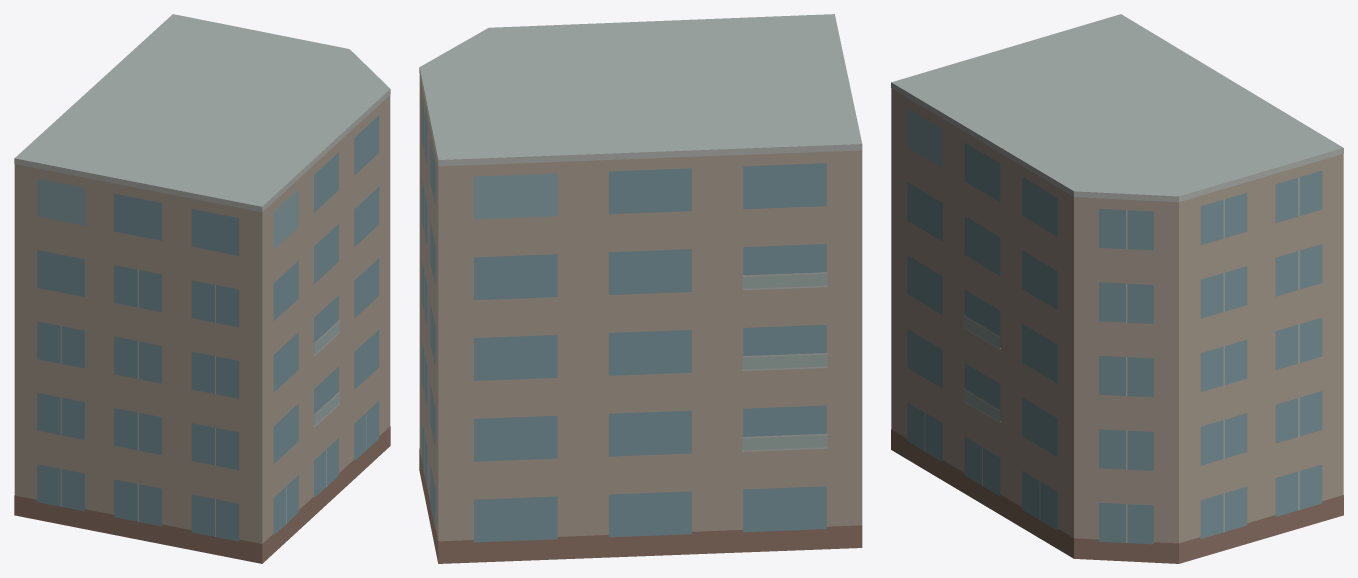
Rendered from survey-upis-32741710.glb.
The picture shows the model from 3 angles, left to right: view 1: azimuth 30°, elevation 25°; view 2: azimuth 150°, elevation 25°; view 3: azimuth 270°, elevation 25°; orthographic projection. The views are drawn at different scales.
Parts seen in each view (by area): view 1: survey-upis-32741710.tmp; view 2: survey-upis-32741710.tmp; view 3: survey-upis-32741710.tmp.
Boxes of the visible parts, left/top/right/bottom form: survey-upis-32741710.tmp: left=14, top=14, right=390, bottom=563; survey-upis-32741710.tmp: left=419, top=14, right=862, bottom=563; survey-upis-32741710.tmp: left=891, top=14, right=1343, bottom=563.
Size of the model in its own units: 16.51 by 15.5 by 17.31.
